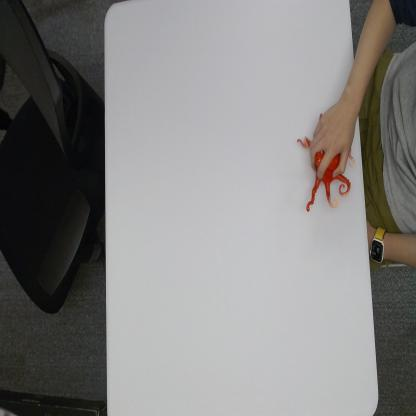Hand: (309, 101, 358, 182)
Octopus: (295, 111, 356, 216)
